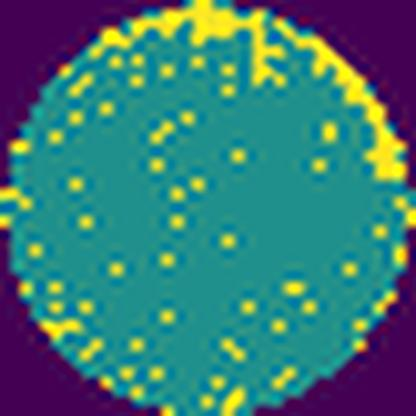Edge-Loc: (276, 22, 406, 181), (88, 0, 283, 94)
